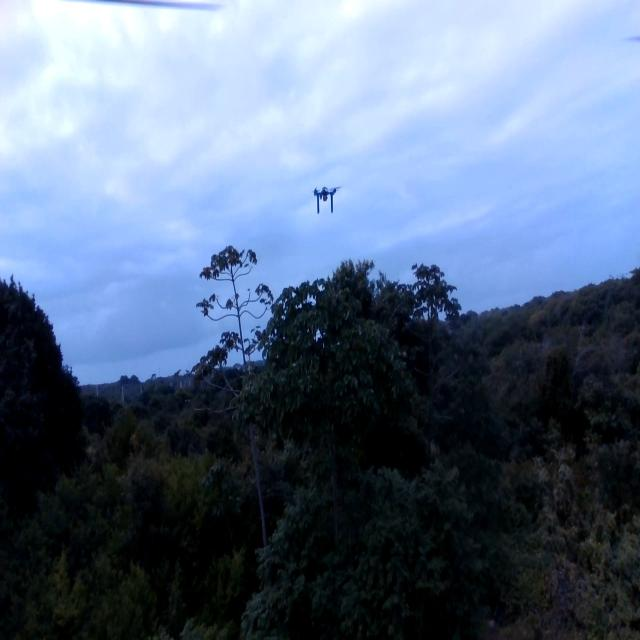-uav-: (300, 172, 349, 225)
